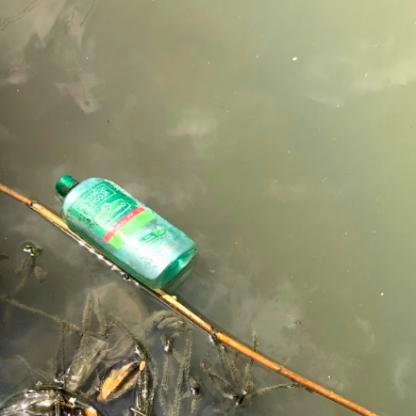Glass: (53, 168, 201, 294)
